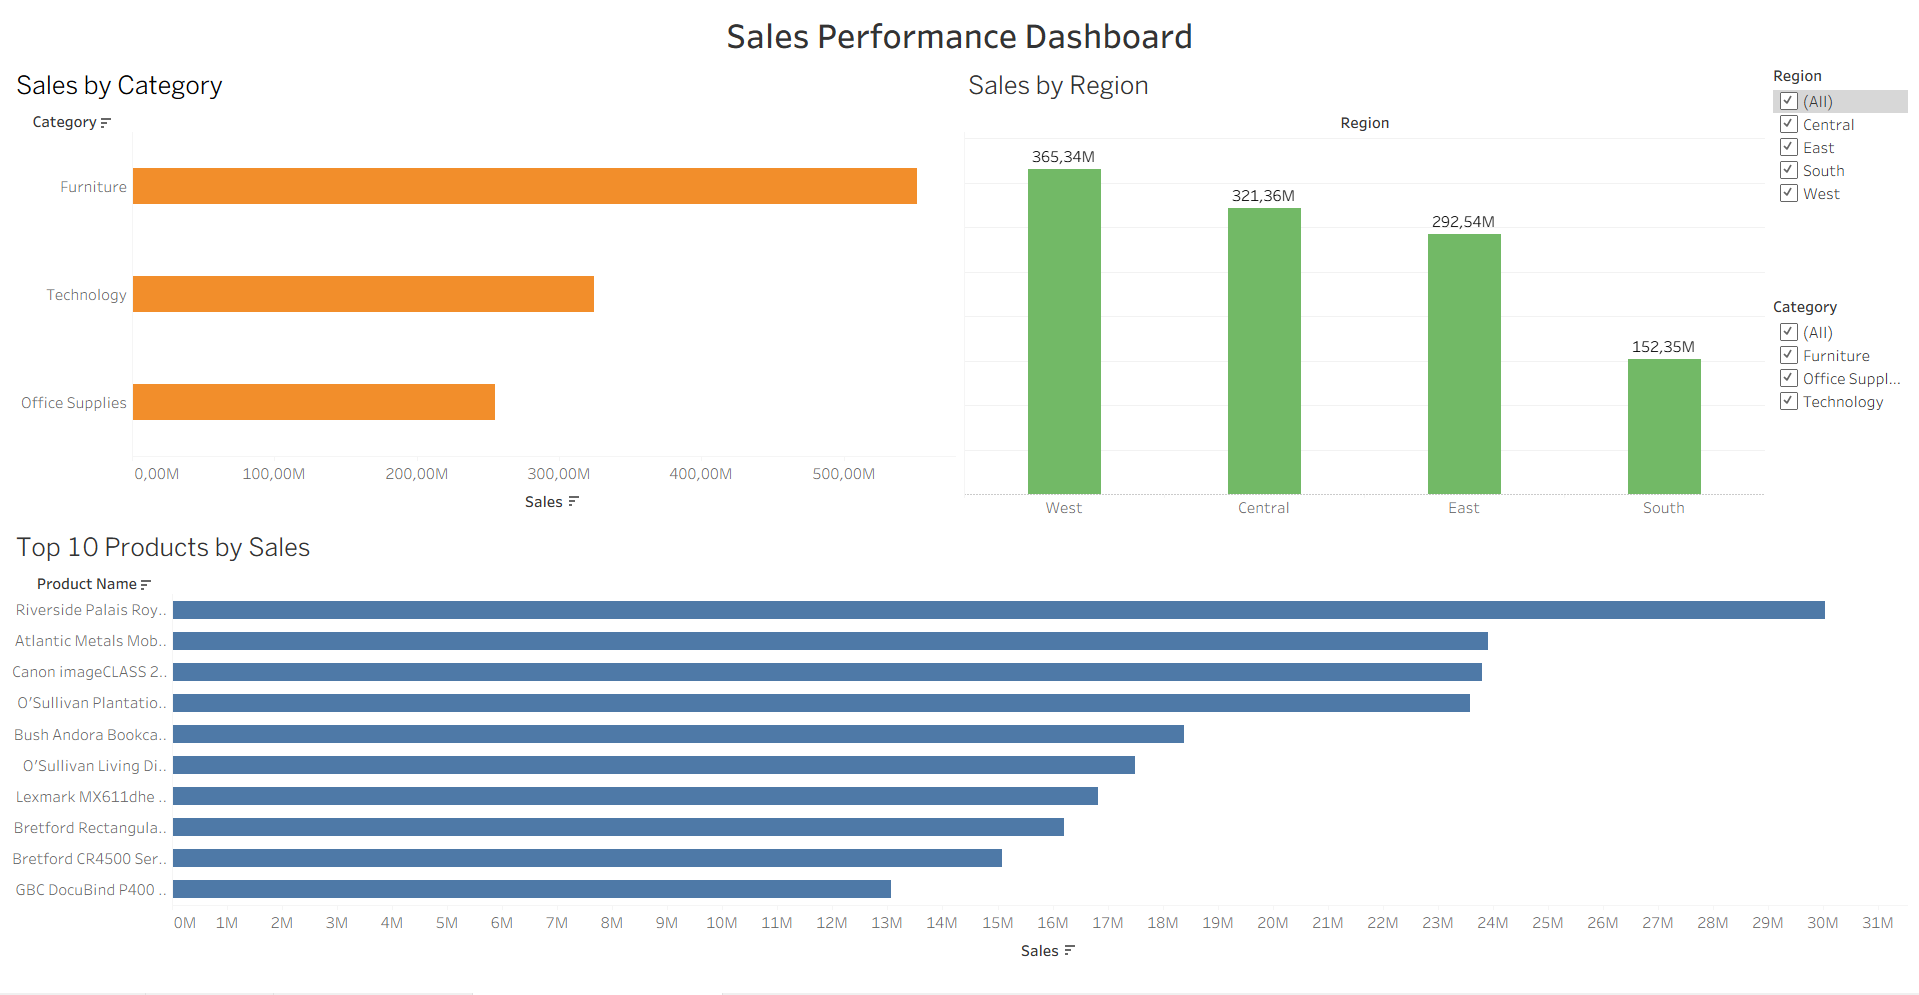

The page's visual inventory and layout, read from the dashboard file:
{"tool":"tableau","page":{"name":"Sales Performance Dashboard","canvas":[1000,1000],"units":"permille","ordinal":0},"visuals":[{"type":"title","box":[4.8,10,990.3,66.2]},{"type":"worksheet","title":"Sales by Category","mark":"Automatic","rows":["Category"],"cols":["Sales"],"box":[4.8,76.2,495.2,456.8]},{"type":"worksheet","title":"Sales by Region","mark":"Automatic","rows":["Sales"],"cols":["Region"],"box":[500,76.2,420.9,456.8]},{"type":"filter","title":"Top 10 Products by Sales","param":"[federated.19xpzac1ozqhkh12os7rd1ahrgep].[none:Region:nk]","box":[920.9,76.2,74.3,228.4]},{"type":"filter","title":"Top 10 Products by Sales","param":"[federated.19xpzac1ozqhkh12os7rd1ahrgep].[none:Category:nk]","box":[920.9,304.5,74.3,228.5]},{"type":"worksheet","title":"Top 10 Products by Sales","mark":"Automatic","rows":["Product Name"],"cols":["Sales"],"box":[4.8,533,990.3,457]}]}

Visuals, with their boxes on the dashboard's canvas, which has no fixed pixel size, in thousandths of its width and height (x1, y1, x2, y2). These are canvas units, not pixel positions in the 1919x995 screenshot, which may show the page scaled, cropped or inside an application window:
title: 5, 10, 995, 76
"Sales by Category" worksheet: 5, 76, 500, 533
"Sales by Region" worksheet: 500, 76, 921, 533
"Top 10 Products by Sales" filter: 921, 76, 995, 305
"Top 10 Products by Sales" filter: 921, 304, 995, 533
"Top 10 Products by Sales" worksheet: 5, 533, 995, 990
